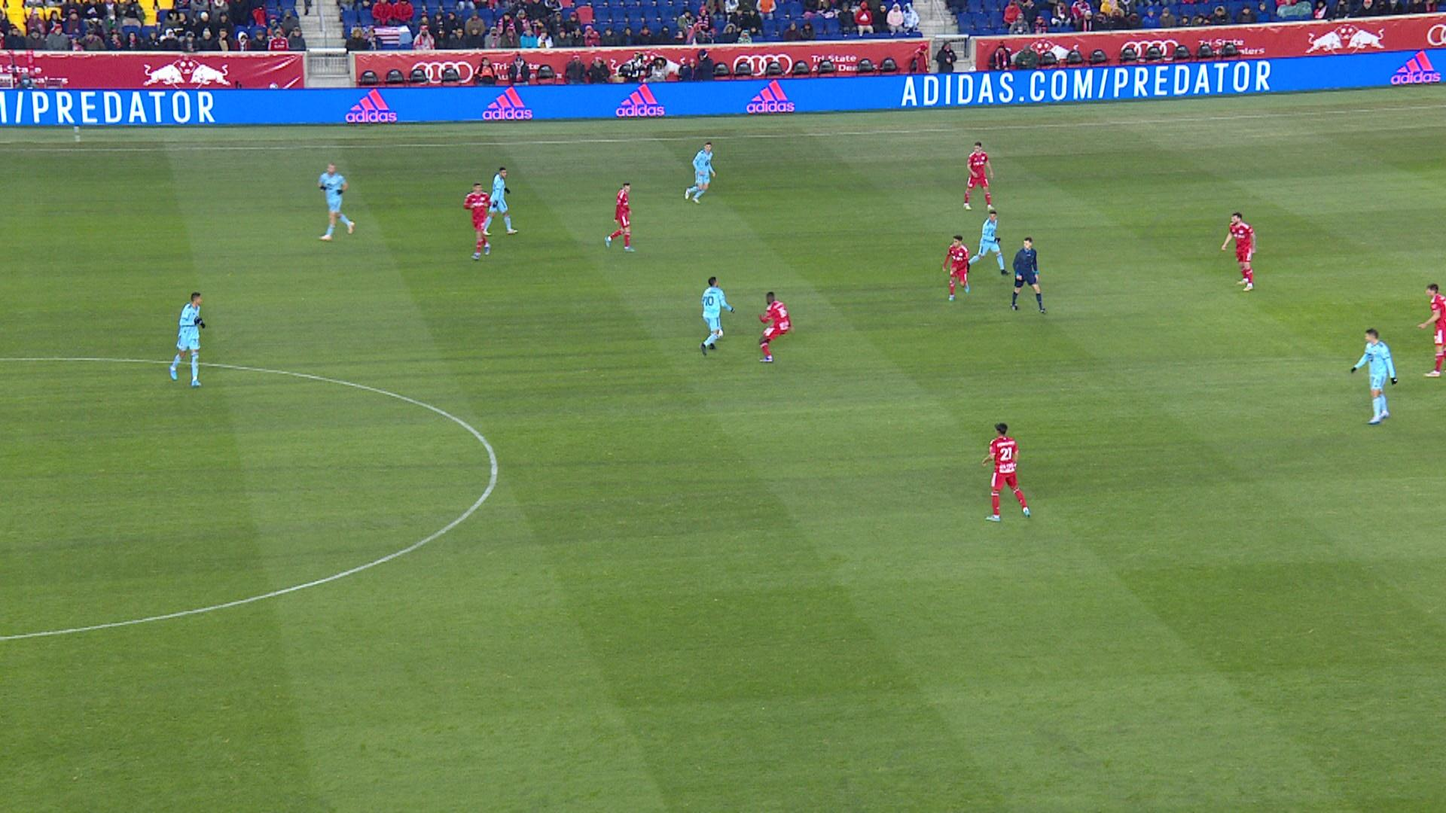Player: (982, 423, 1031, 522), (1351, 329, 1397, 424), (169, 292, 205, 387), (318, 163, 354, 241), (1221, 212, 1256, 292), (967, 210, 1010, 275), (701, 277, 735, 355), (1418, 284, 1446, 378), (483, 167, 518, 235), (963, 142, 995, 211), (759, 292, 790, 362), (464, 183, 491, 260), (605, 183, 634, 252), (685, 142, 716, 204), (942, 235, 969, 301), (1444, 369, 1446, 373)
ball: (718, 329, 724, 337)
referee: (1011, 237, 1045, 313)
